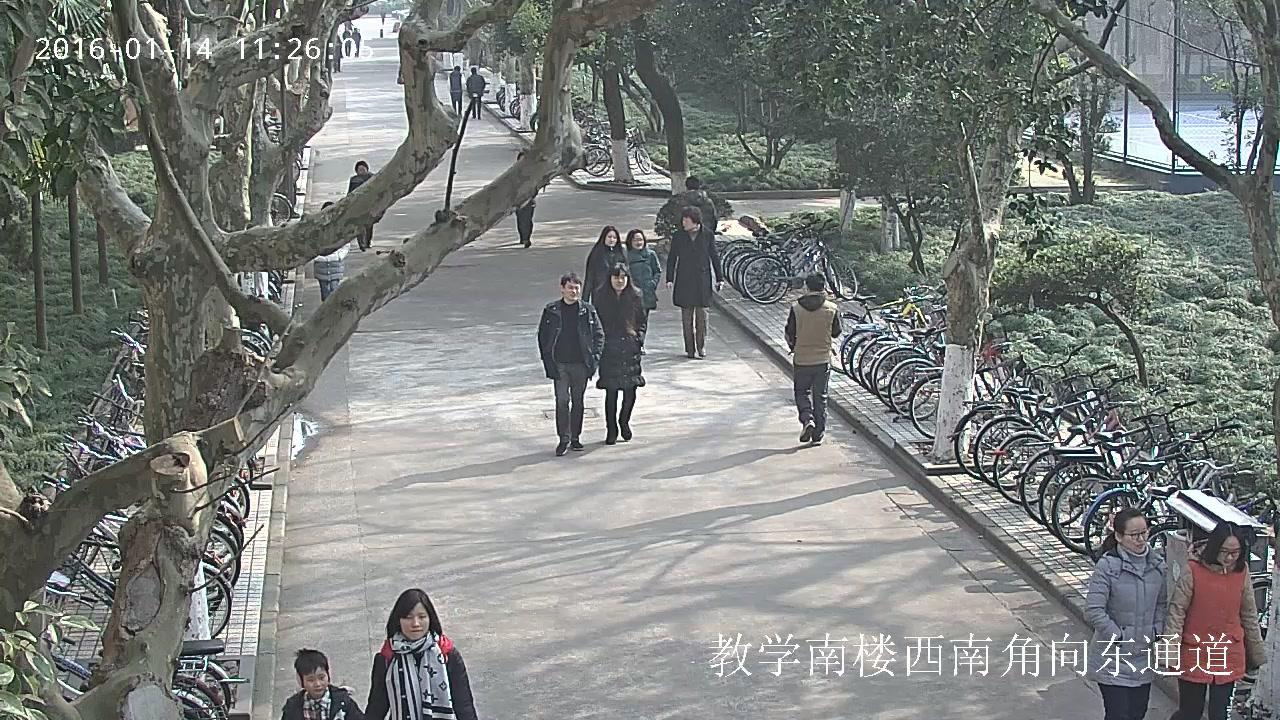person: (1164, 520, 1267, 720), (1081, 507, 1169, 720), (363, 587, 480, 720), (537, 272, 604, 456), (588, 262, 647, 444), (784, 271, 841, 445), (665, 206, 721, 357), (279, 648, 366, 720), (616, 229, 662, 353), (310, 201, 350, 303), (660, 174, 717, 245), (581, 225, 629, 307), (345, 160, 377, 250), (510, 151, 537, 247), (465, 67, 484, 119), (448, 64, 465, 116), (331, 34, 342, 73), (341, 26, 352, 56), (351, 27, 360, 57)
